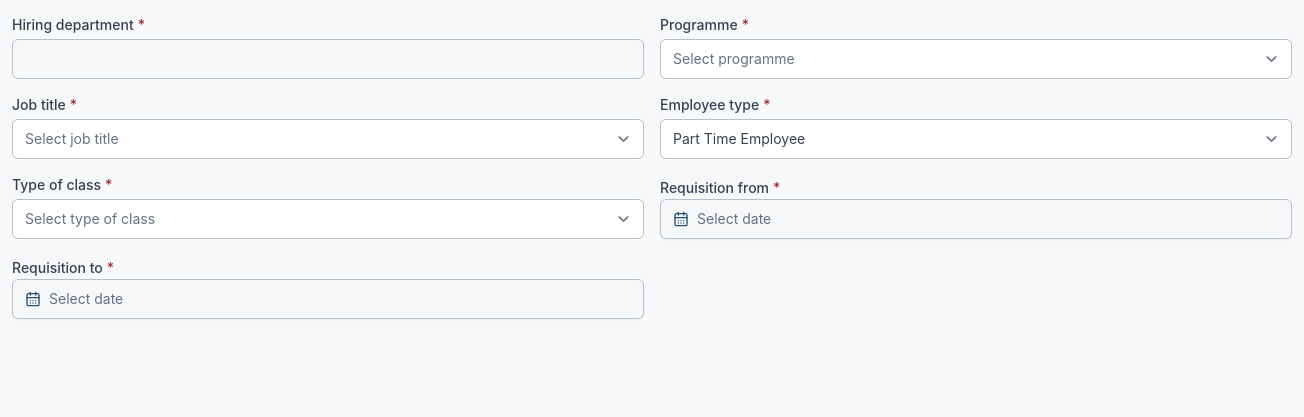
Test: RequisitionDetails › exposes every job title and the employee type defined by the approved form
This screenshot has width=1304, height=417.
Click the dropdown labelled "job title" at x=72, y=138, box [12,119,644,159]
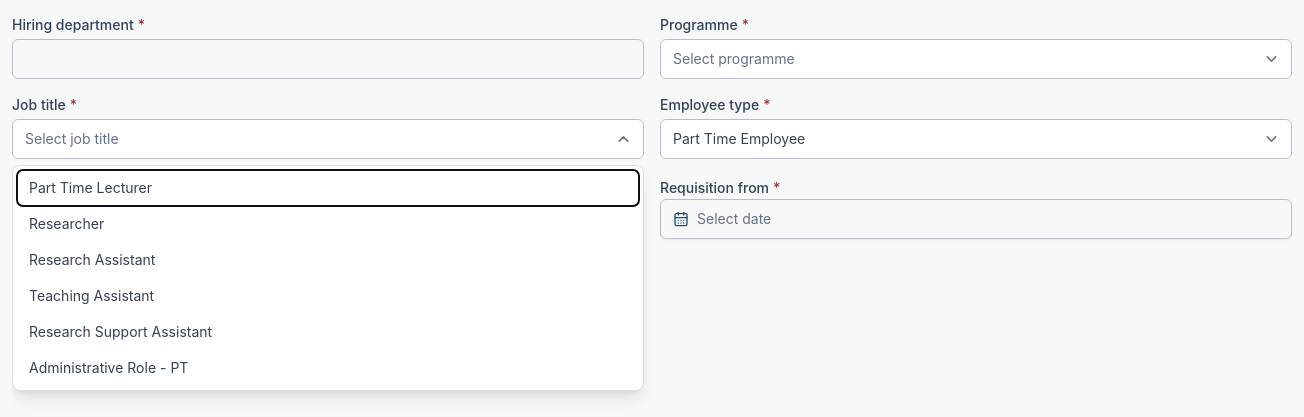
Check: the options read "Part Time Lecturer", "Researcher", "Research Assistant", "Teaching Assistant", "Research Support Assistant", "Administrative Role - PT", in this order, box [17,170,639,206]; [17,206,639,242]; [17,242,639,278]; [17,278,639,314]; [17,314,639,350]; [17,350,639,386]
